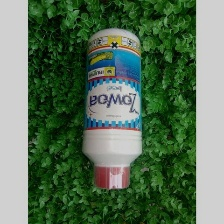insecticide: (78, 25, 148, 193)
